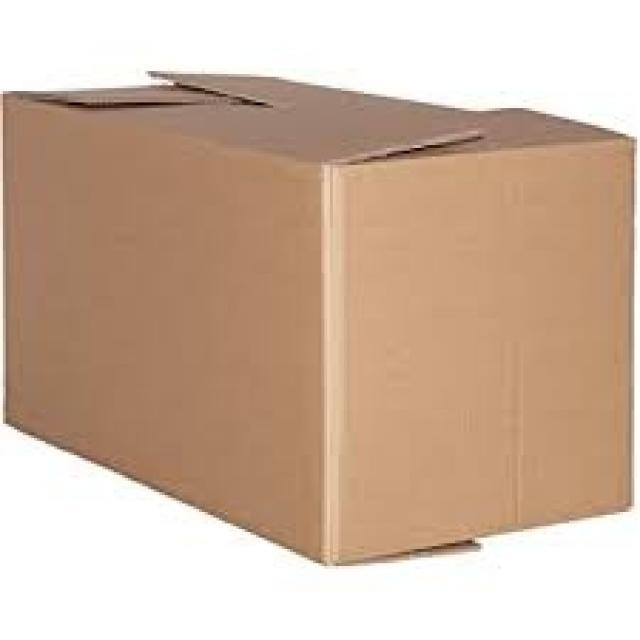cardboard paper: (3, 72, 631, 561)
